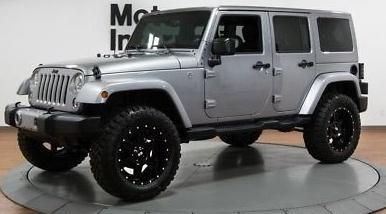SUV: (6, 8, 369, 202)
